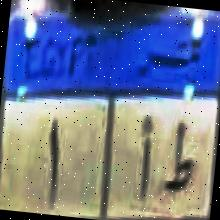1: (37, 118, 74, 203)
Taa: (163, 116, 198, 199)
alif: (134, 112, 160, 199)
